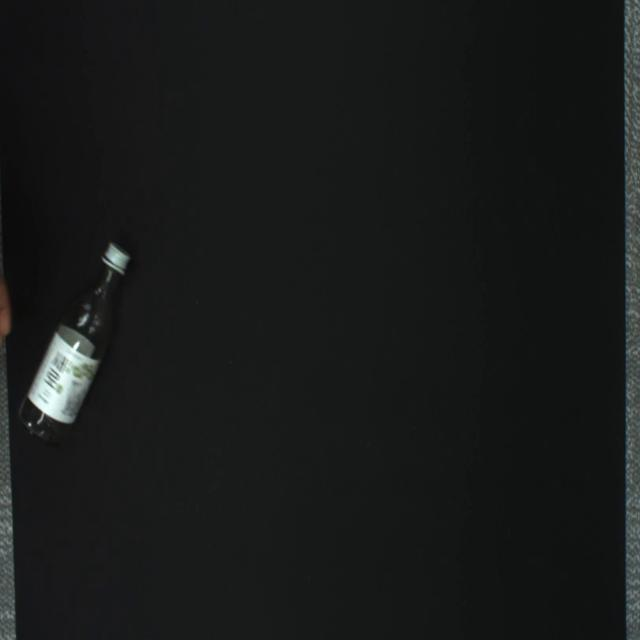soju-bottle: (17, 241, 131, 446)
